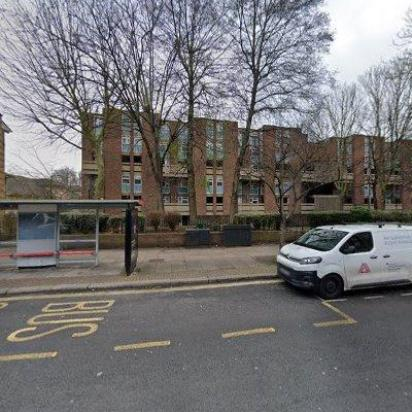stationary-light-truck-onstreet: (276, 221, 412, 297)
